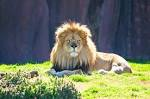lion: (47, 20, 132, 83)
